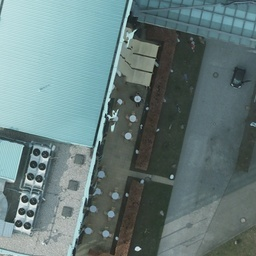car: (230, 66, 246, 89)
